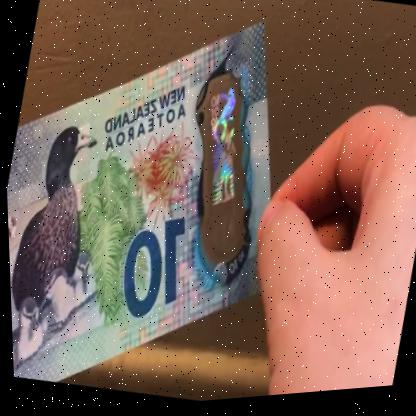10F: (176, 85, 264, 263)
